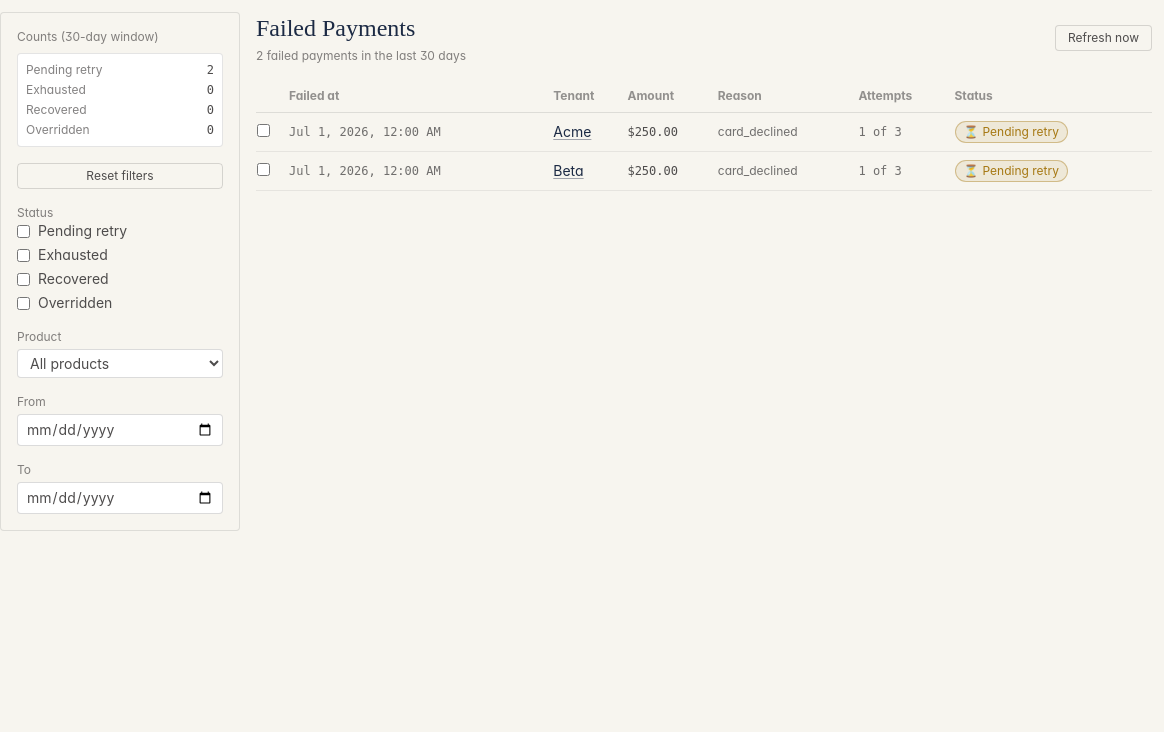
Test: FailedPaymentsBulkEmailBar (HUB-1692) › product_admin: bar shows count + Clear but NOT the Send button
This screenshot has width=1164, height=732.
Step 1. Click the checkbox named "Select Acme" → (264, 130), box x1=257 y1=124 x2=270 y2=137
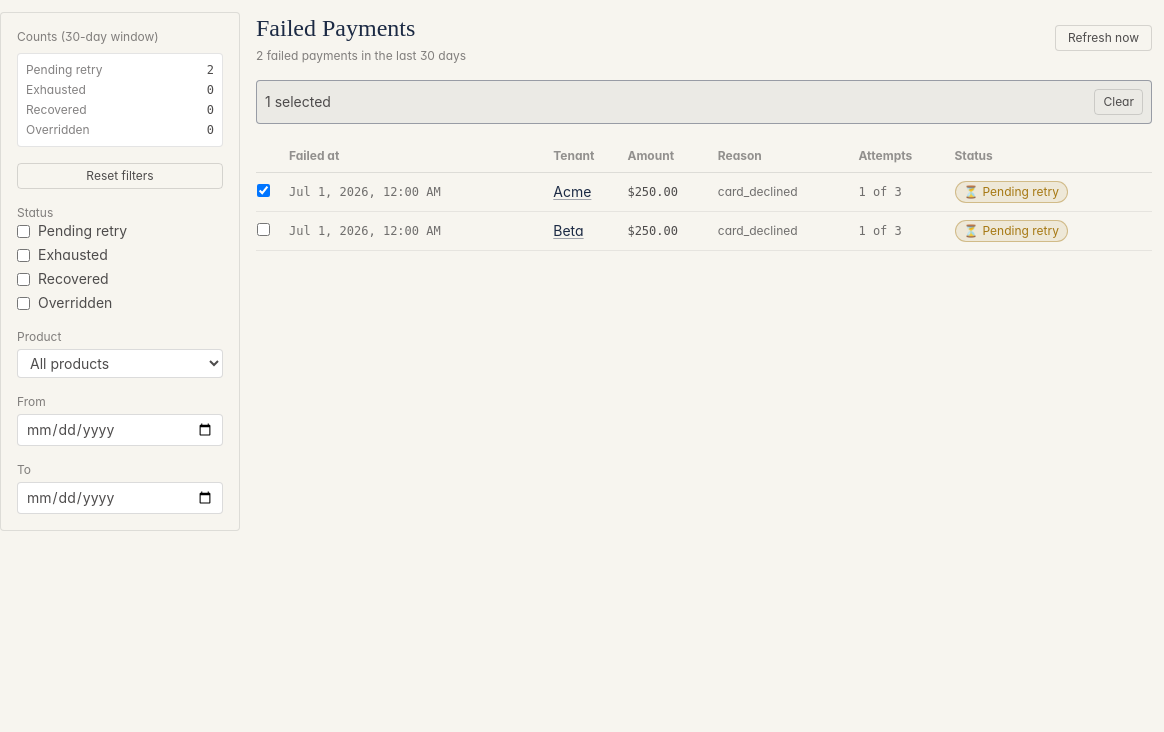
Check: the element with test id "failed-payments-bulk-bar" is shown, box x1=256 y1=80 x2=1152 y2=124
